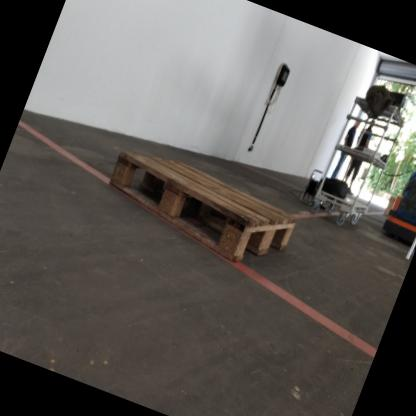BoxFace: (103, 149, 298, 267)
